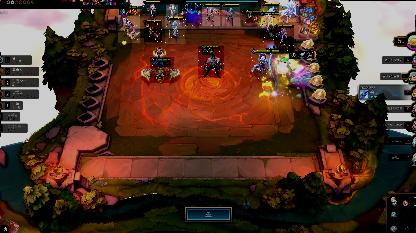1_aurelionsol: (180, 2, 202, 26)
1_lux: (142, 0, 162, 20), (166, 5, 178, 17)
1_nidalee: (222, 4, 240, 26), (202, 4, 220, 26)
1_twitch: (144, 20, 162, 42), (242, 9, 260, 23)
1_vladimir: (279, 0, 299, 22)
2_lux: (260, 12, 278, 42), (274, 25, 294, 51)
2_nidalee: (165, 16, 185, 44)
2_sylas: (198, 46, 224, 78)
2_vladimir: (251, 48, 271, 78)
3_skarner: (150, 57, 174, 83)
3_varus: (118, 9, 140, 43)
